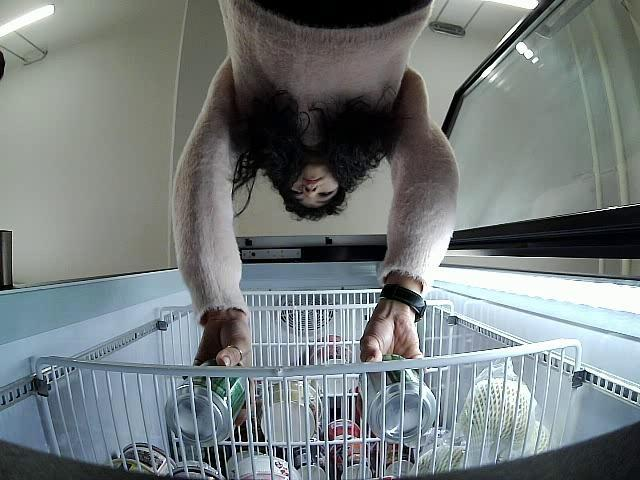12_chilsungCider: (166, 360, 250, 446), (357, 354, 437, 442)
